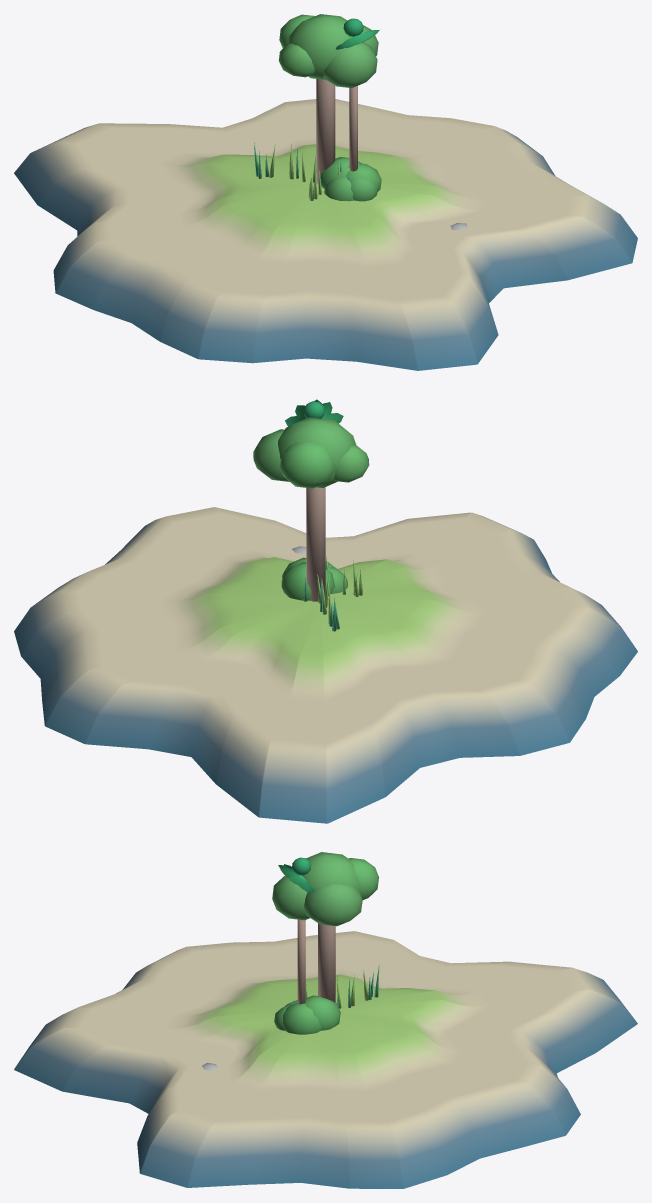
Rendered from terrain_island_01.glb.
3 views of the same model, one above another, from view 1: azimuth 30°, elevation 25°; view 2: azimuth 150°, elevation 25°; view 3: azimuth 270°, elevation 25° (orthographic). The views are drawn at different scales.
Visible parts, largest first — view 1: island_terrain, veg_tree1_tree_crown_c, veg_tree1_tree_trunk, veg_tree1_tree_crown_1, veg_tree1_tree_crown_2, veg_tree0_palm_trunk, veg_shrub0_ball2, veg_shrub0_ball1, veg_shrub0_ball3; view 2: island_terrain, veg_tree1_tree_crown_c, veg_tree1_tree_trunk, veg_tree1_tree_crown_3, veg_tree1_tree_crown_0, veg_shrub0_ball3, veg_tree1_tree_crown_2; view 3: island_terrain, veg_tree1_tree_crown_0, veg_tree1_tree_crown_c, veg_tree1_tree_trunk, veg_tree1_tree_crown_1, veg_shrub0_ball0, veg_shrub0_ball3, veg_tree0_palm_trunk, veg_tree1_tree_crown_3.
Part boxes in pixels (x1,y1,x2,y2): island_terrain: [14, 99, 637, 370]; veg_tree1_tree_crown_c: [287, 14, 352, 79]; veg_tree1_tree_trunk: [316, 79, 335, 184]; veg_tree1_tree_crown_1: [323, 42, 377, 87]; veg_tree1_tree_crown_2: [278, 43, 314, 77]; veg_tree0_palm_trunk: [349, 86, 357, 171]; veg_shrub0_ball2: [324, 176, 354, 201]; veg_shrub0_ball1: [349, 178, 377, 201]; veg_shrub0_ball3: [318, 157, 361, 188]; island_terrain: [14, 507, 637, 823]; veg_tree1_tree_crown_c: [278, 417, 356, 487]; veg_tree1_tree_trunk: [306, 487, 325, 601]; veg_tree1_tree_crown_3: [280, 441, 335, 488]; veg_tree1_tree_crown_0: [253, 429, 289, 481]; veg_shrub0_ball3: [281, 562, 335, 600]; veg_tree1_tree_crown_2: [334, 444, 369, 482]; island_terrain: [14, 931, 637, 1188]; veg_tree1_tree_crown_0: [304, 884, 362, 926]; veg_tree1_tree_crown_c: [302, 852, 359, 892]; veg_tree1_tree_trunk: [318, 923, 335, 1002]; veg_tree1_tree_crown_1: [272, 875, 309, 920]; veg_shrub0_ball0: [283, 1002, 321, 1034]; veg_shrub0_ball3: [305, 995, 340, 1030]; veg_tree0_palm_trunk: [297, 919, 305, 1004]; veg_tree1_tree_crown_3: [348, 858, 378, 899].
Size of the model in its own units: 133 by 59.29 by 150.
